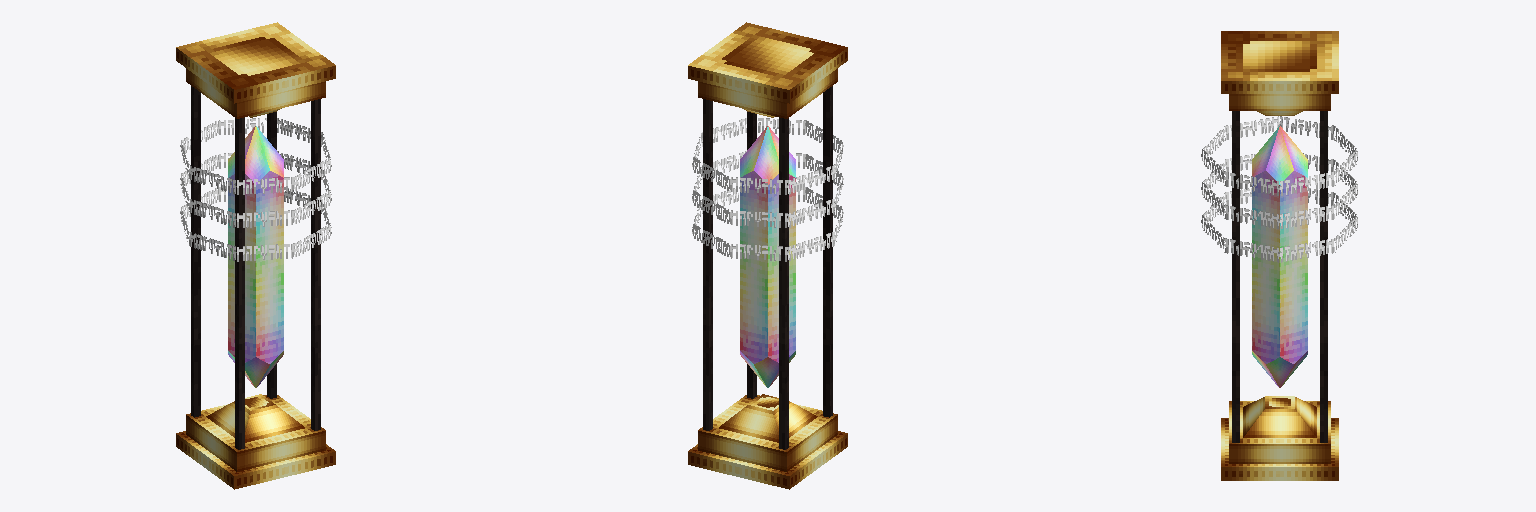
3 views of the same model, side by side, from view 1: azimuth 30°, elevation 25°; view 2: azimuth 150°, elevation 25°; view 3: azimuth 270°, elevation 25° (orthographic).
Visible parts, largest first — view 1: Base, Struts, Crystal, TextRing03, TextRing02, TextRing01; view 2: Base, Struts, Crystal, TextRing03, TextRing02, TextRing01; view 3: Base, Crystal, Struts, TextRing03, TextRing02, TextRing01.
Boxes of the visible parts, box(x1,y1,x2,y2) form: Base: box(176, 22, 335, 489); Struts: box(191, 86, 320, 449); Crystal: box(228, 126, 283, 387); TextRing03: box(180, 118, 331, 194); TextRing02: box(180, 151, 331, 227); TextRing01: box(180, 187, 331, 261); Base: box(688, 22, 847, 489); Struts: box(703, 86, 832, 449); Crystal: box(740, 126, 795, 387); TextRing03: box(692, 118, 843, 194); TextRing02: box(692, 151, 843, 227); TextRing01: box(692, 187, 843, 261); Base: box(1221, 31, 1338, 480); Crystal: box(1252, 126, 1307, 387); Struts: box(1232, 111, 1327, 442); TextRing03: box(1201, 116, 1357, 195); TextRing02: box(1201, 153, 1357, 228); TextRing01: box(1201, 188, 1357, 262).
Size of the model in its own units: 1.06 by 2.95 by 1.06.
2 materials, 2 textured.